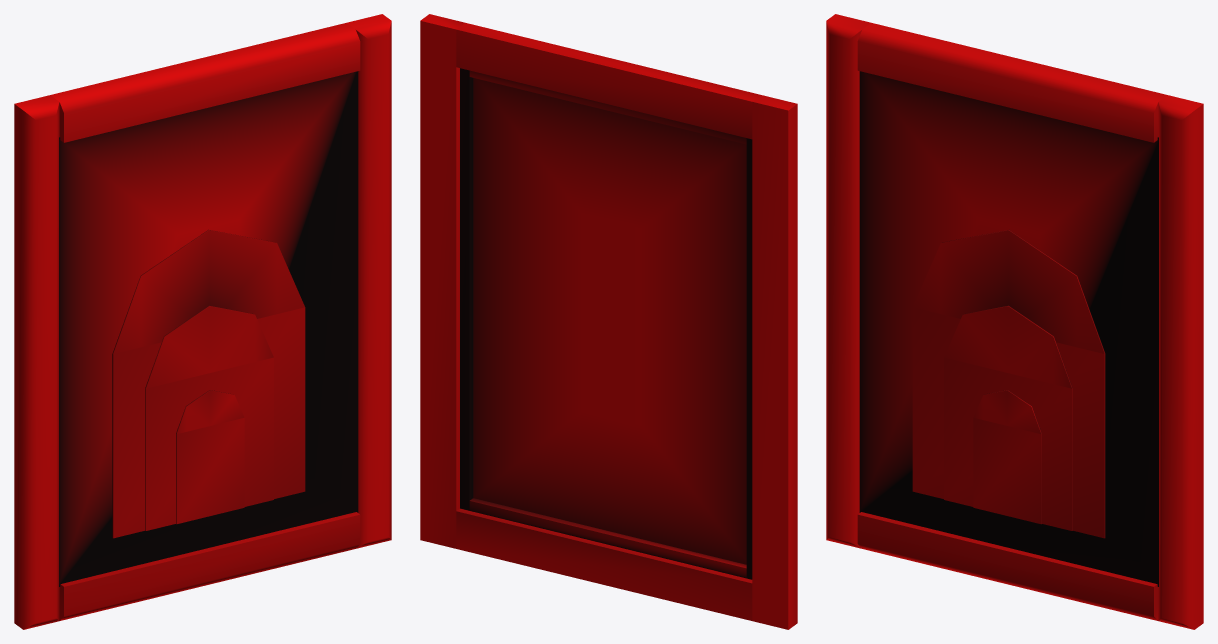
Rendered from CI_Decor_Frame_Medium.glb.
The picture shows the model from 3 angles, left to right: view 1: azimuth 30°, elevation 25°; view 2: azimuth 150°, elevation 25°; view 3: azimuth 330°, elevation 25°; orthographic projection.
Visible parts, largest first — view 1: CI_Decor_Frame_Medium; view 2: CI_Decor_Frame_Medium; view 3: CI_Decor_Frame_Medium.
Boxes of the visible parts, bbox=[...] form: CI_Decor_Frame_Medium: bbox=[14, 14, 391, 629]; CI_Decor_Frame_Medium: bbox=[420, 14, 797, 629]; CI_Decor_Frame_Medium: bbox=[826, 14, 1203, 629].
Bounding box in the file's own units: 0.46 × 0.62 × 0.03.
